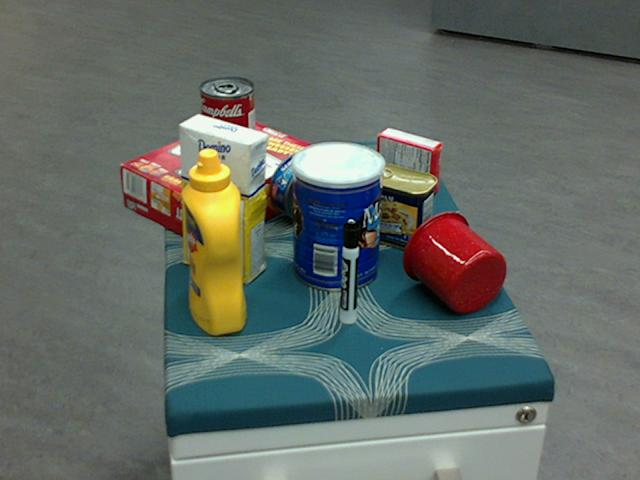cracker_box: (119, 115, 323, 251)
gelatin_box: (376, 128, 443, 197)
large_marker: (340, 220, 359, 325)
master_chef_can: (291, 141, 384, 291)
mug: (402, 210, 507, 313)
mustard_bottle: (182, 149, 245, 335)
potted_meat_can: (351, 161, 436, 248)
sugar_box: (178, 114, 266, 285)
tomato_soup_can: (199, 77, 256, 172)
tuna_fish_can: (268, 150, 334, 220)
